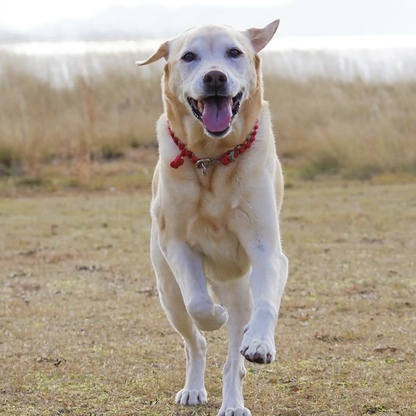labrado: (129, 16, 301, 416)
